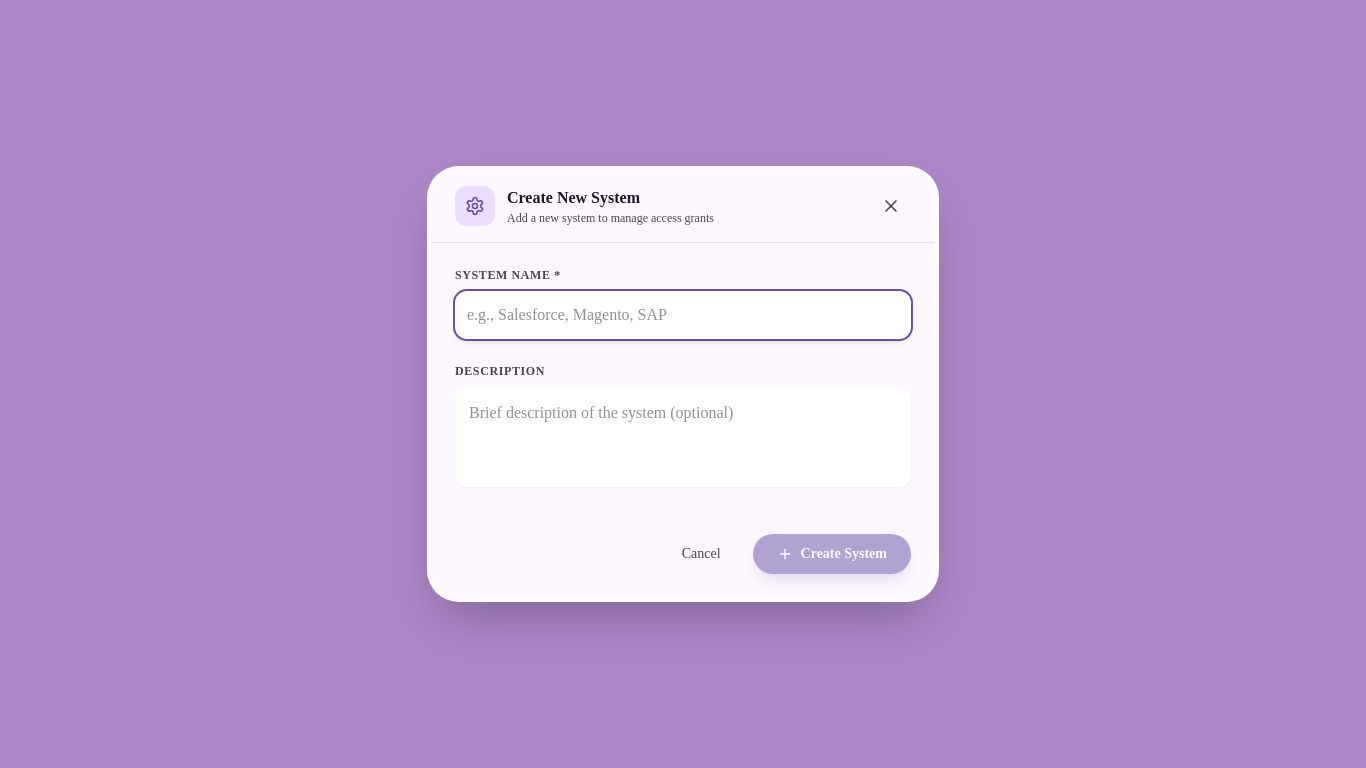
it: CreateSystemModal › enables submit button when name is provided
This screenshot has width=1366, height=768.
Type "New System" into the field with placeholder "e.g., Salesforce, Magento, SAP" at (683, 315), box [455,291,911,339]
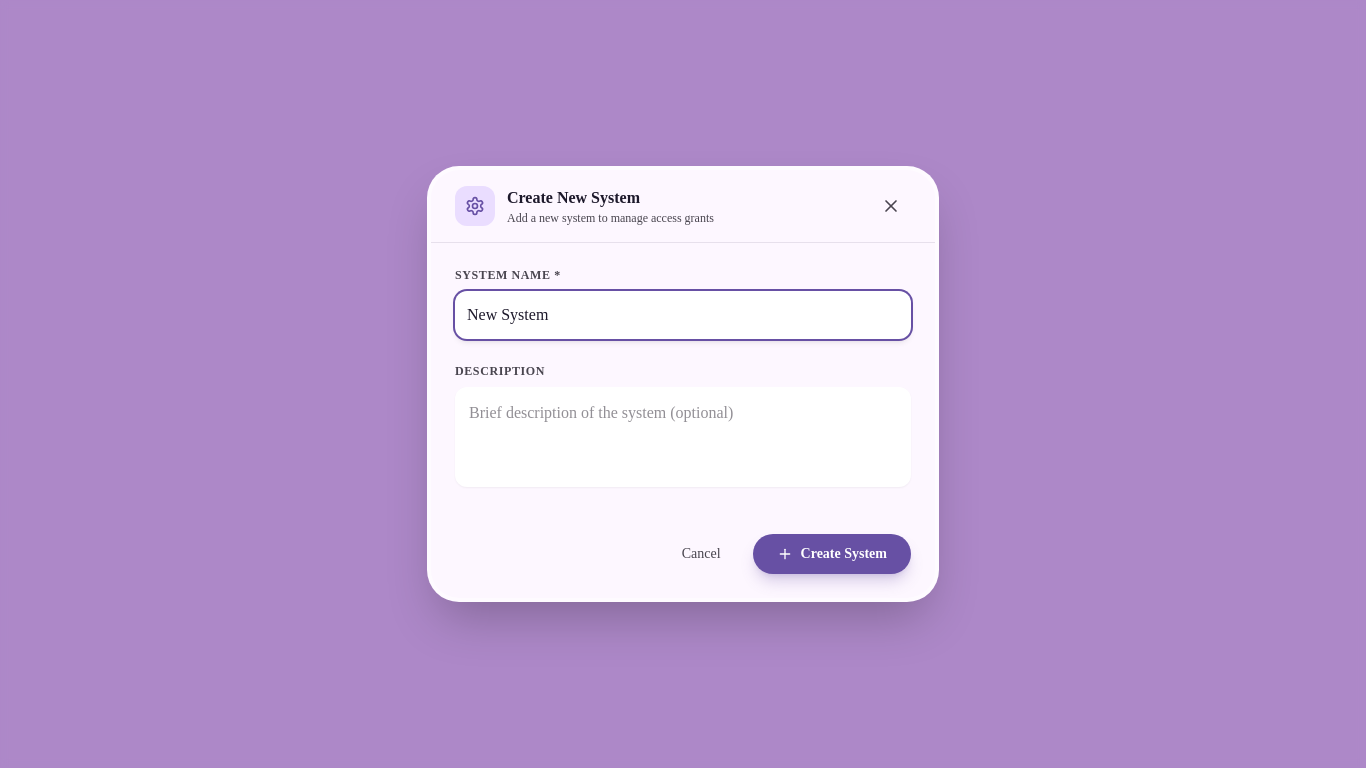
Expected: the button "Create System" is enabled, [753,534,911,574]
